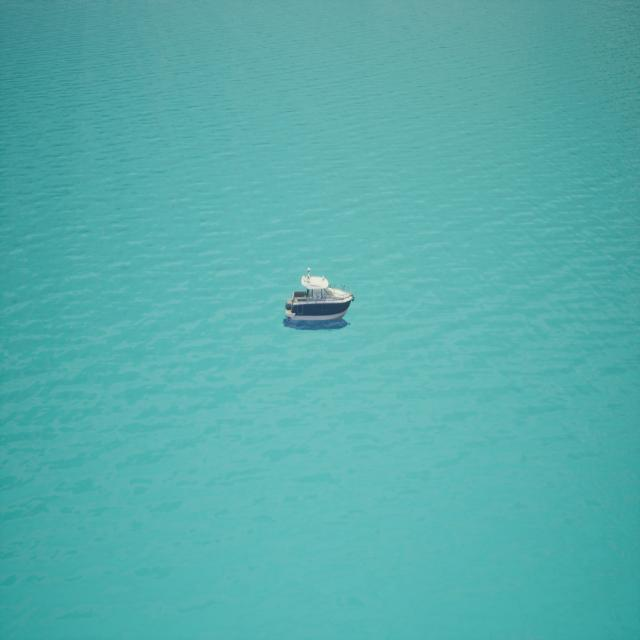ship: (282, 266, 354, 326)
